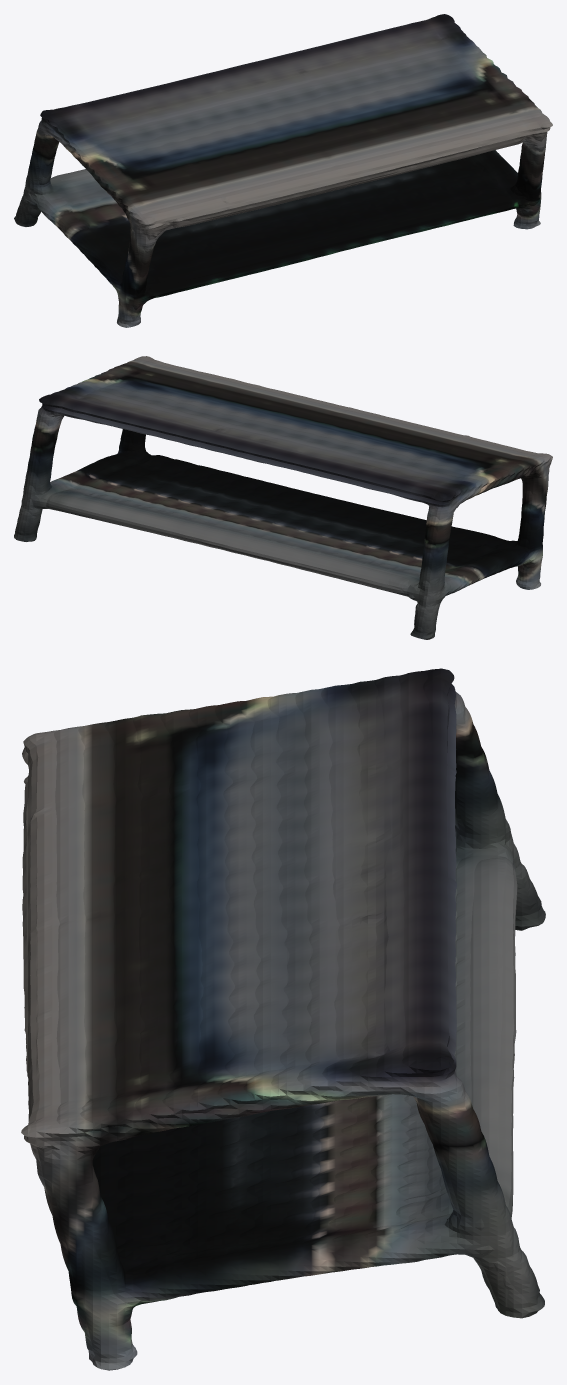
File: table-003.glb
3 views of the same model, one above another, from view 1: azimuth 30°, elevation 25°; view 2: azimuth 150°, elevation 25°; view 3: azimuth 270°, elevation 25° (orthographic). The views are drawn at different scales.
Parts seen in each view (by area): view 1: geometry_0; view 2: geometry_0; view 3: geometry_0.
Part boxes in pixels (x1=…): geometry_0: x1=14, y1=14, x2=552, y2=327; geometry_0: x1=14, y1=356, x2=552, y2=639; geometry_0: x1=21, y1=668, x2=545, y2=1370.
Bounding box in the file's own units: 130 × 45 × 70.
